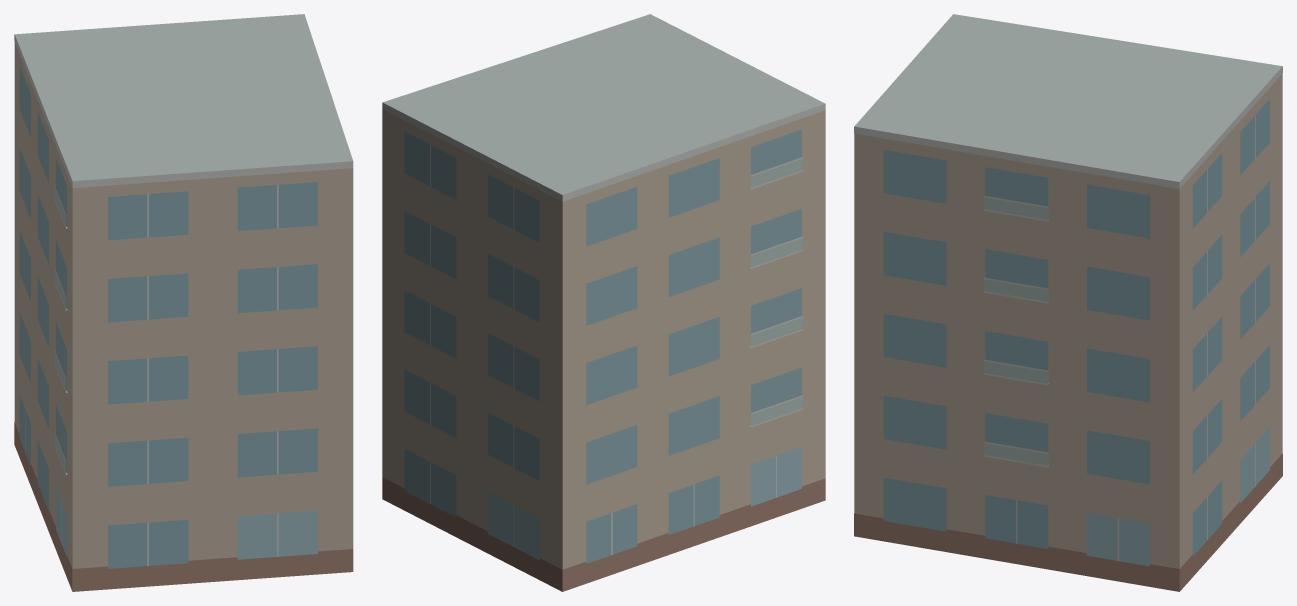
Rendered from survey-upis-32880036.glb.
3 views of the same model, side by side, from view 1: azimuth 30°, elevation 25°; view 2: azimuth 150°, elevation 25°; view 3: azimuth 270°, elevation 25° (orthographic). The views are drawn at different scales.
Parts seen in each view (by area): view 1: survey-upis-32880036.tmp; view 2: survey-upis-32880036.tmp; view 3: survey-upis-32880036.tmp.
Part boxes in pixels (x1,y1,x2,y2): survey-upis-32880036.tmp: (14,14,353,591); survey-upis-32880036.tmp: (382,14,825,591); survey-upis-32880036.tmp: (854,14,1282,591).
Bounding box in the file's own units: 12.77 × 14.5 × 13.76.
